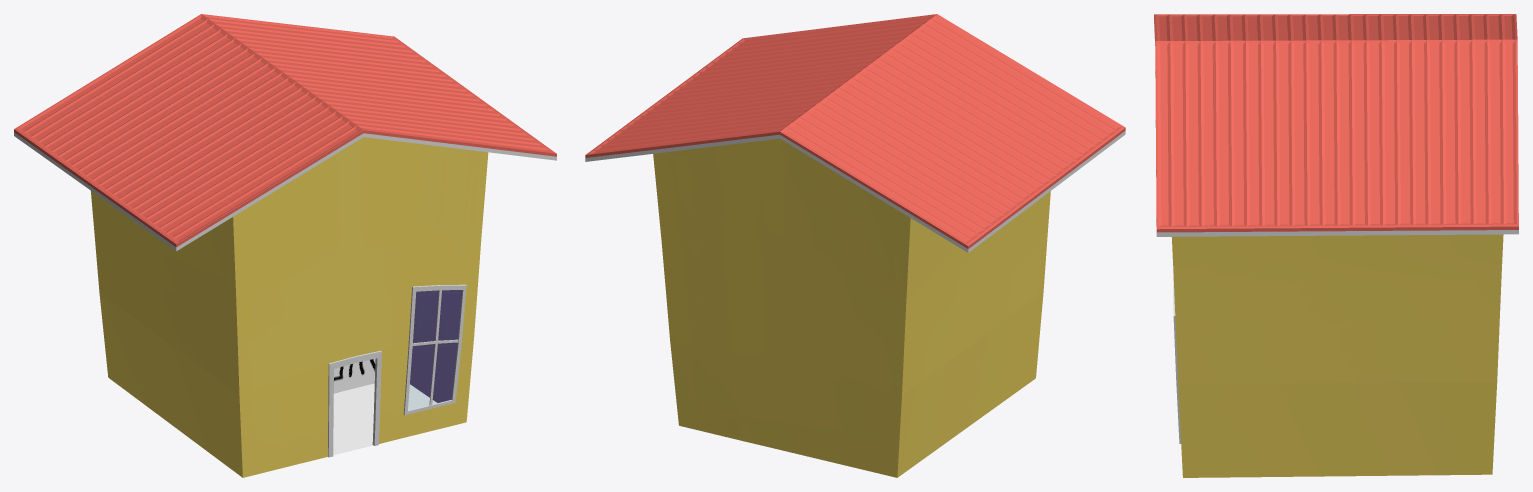
The model's file is house2.0.fbx.
3 renders of one model, left to right at view 1: azimuth 30°, elevation 25°; view 2: azimuth 150°, elevation 25°; view 3: azimuth 270°, elevation 25°, orthographic. The views are drawn at different scales.
Parts seen in each view (by area): view 1: Walls, Roof, Window, Floor, Window_Sill, Door, Wall_Interior; view 2: Walls, Roof; view 3: Roof, Walls.
Boxes of the visible parts, bbox=[...] form: Walls: bbox=[91, 137, 488, 477]; Roof: bbox=[14, 14, 556, 250]; Window: bbox=[408, 290, 461, 409]; Floor: bbox=[333, 383, 437, 455]; Window_Sill: bbox=[403, 284, 466, 415]; Door: bbox=[328, 350, 381, 457]; Wall_Interior: bbox=[333, 358, 375, 393]; Walls: bbox=[653, 138, 1050, 477]; Roof: bbox=[585, 14, 1125, 252]; Roof: bbox=[1154, 14, 1518, 236]; Walls: bbox=[1171, 234, 1503, 477].
Bounding box in the file's own units: 321 × 262 × 233.
